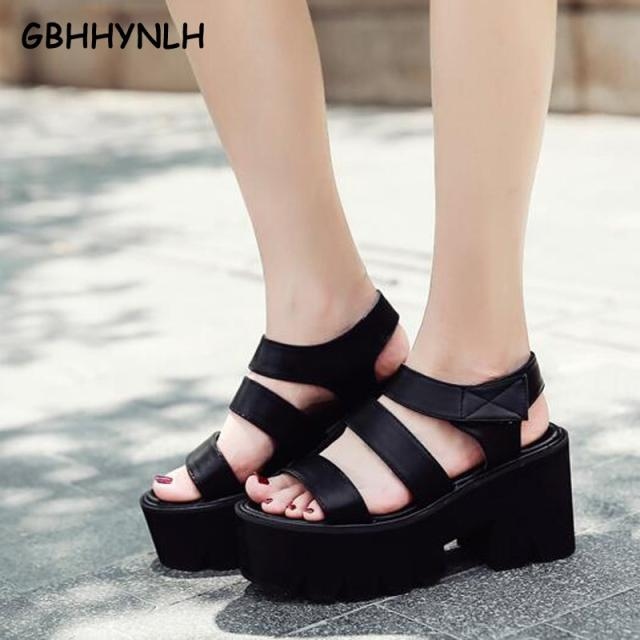Sandals: (233, 321, 577, 600)
